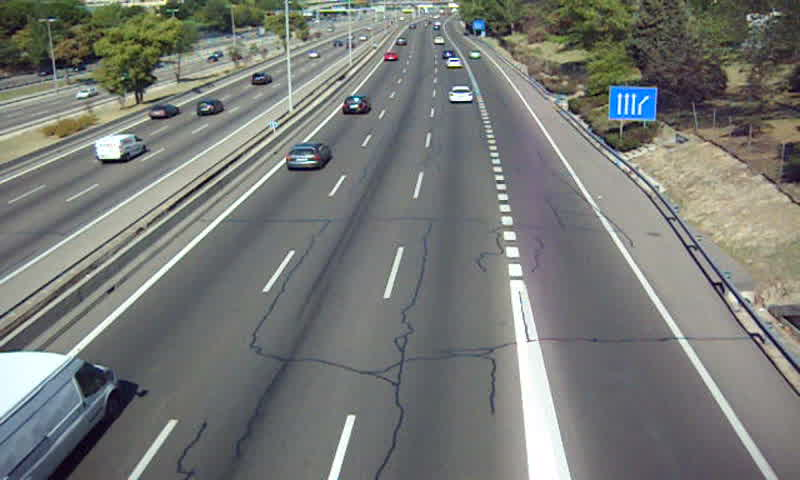car: (286, 143, 331, 169), (341, 94, 369, 115), (447, 85, 475, 104), (445, 57, 464, 69), (382, 52, 400, 62)
